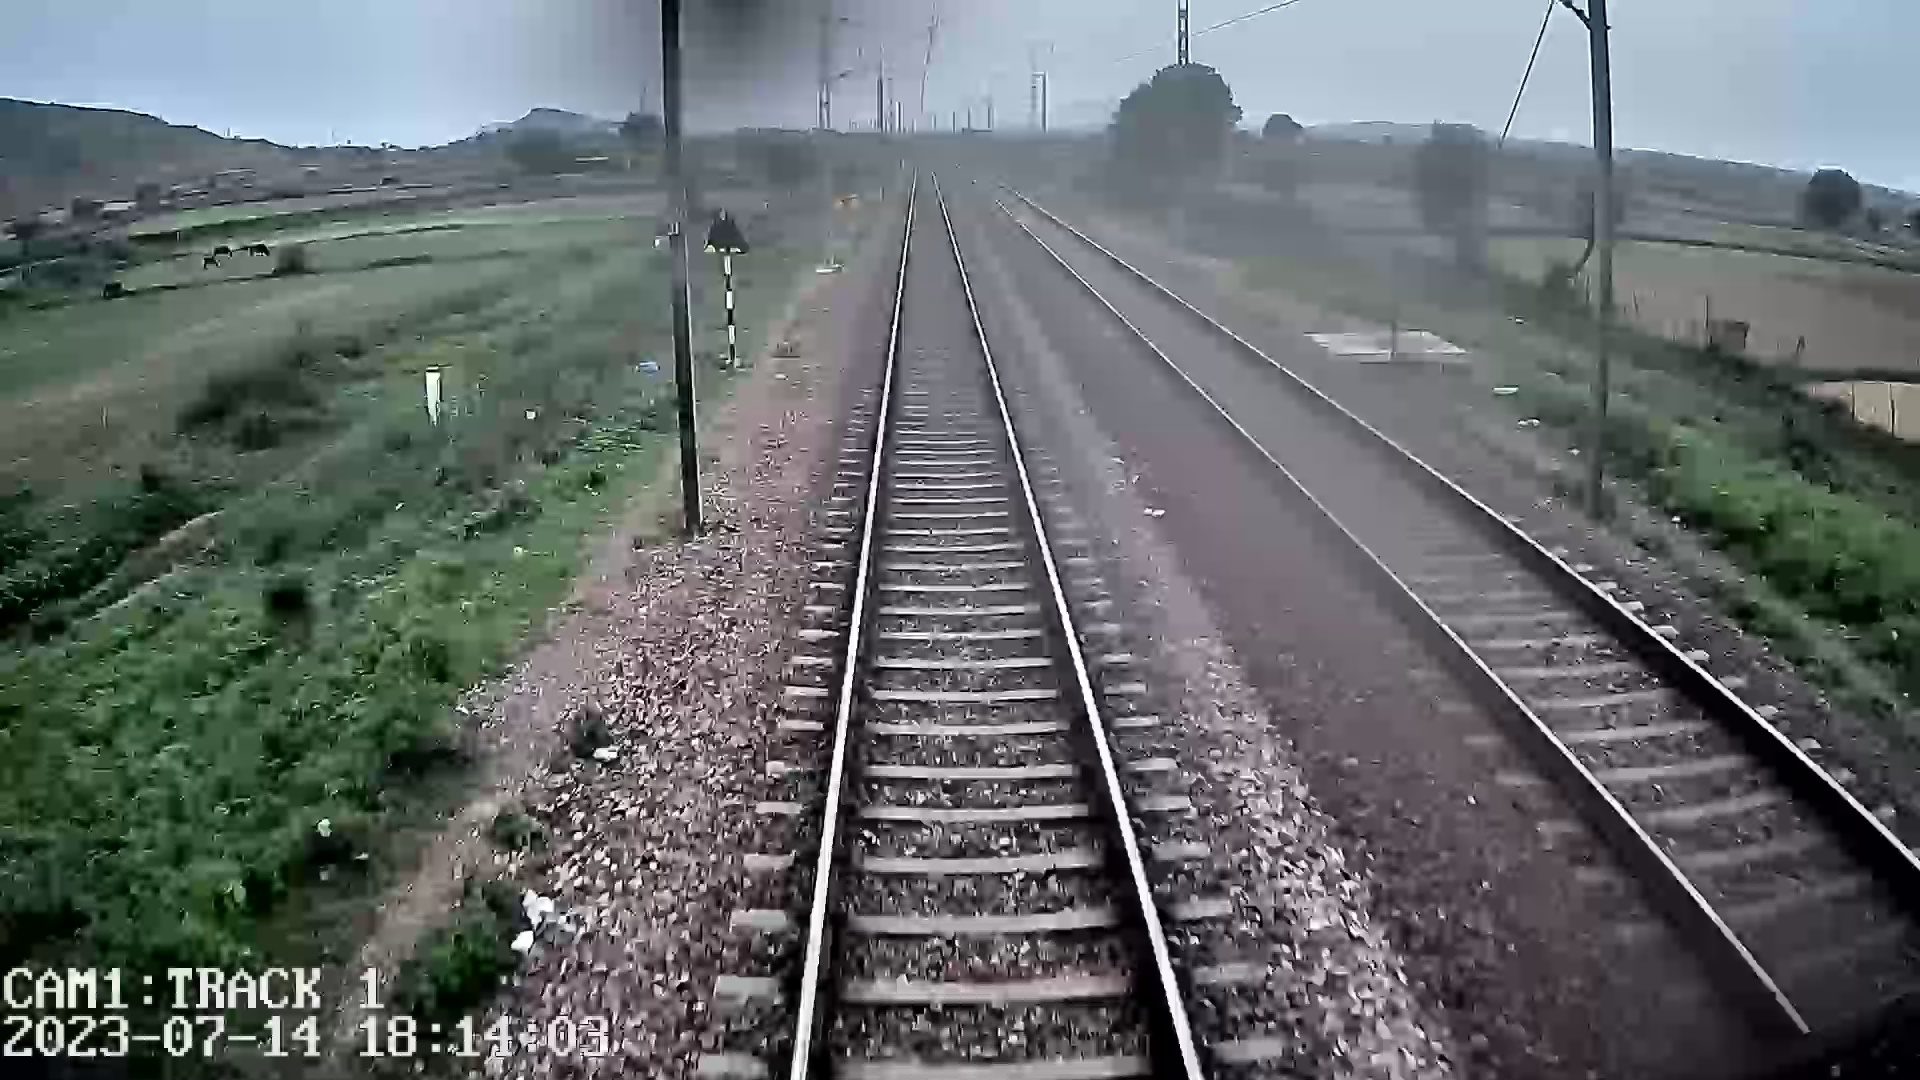track1: (799, 164, 1197, 1073)
track2: (989, 193, 1919, 1023)
